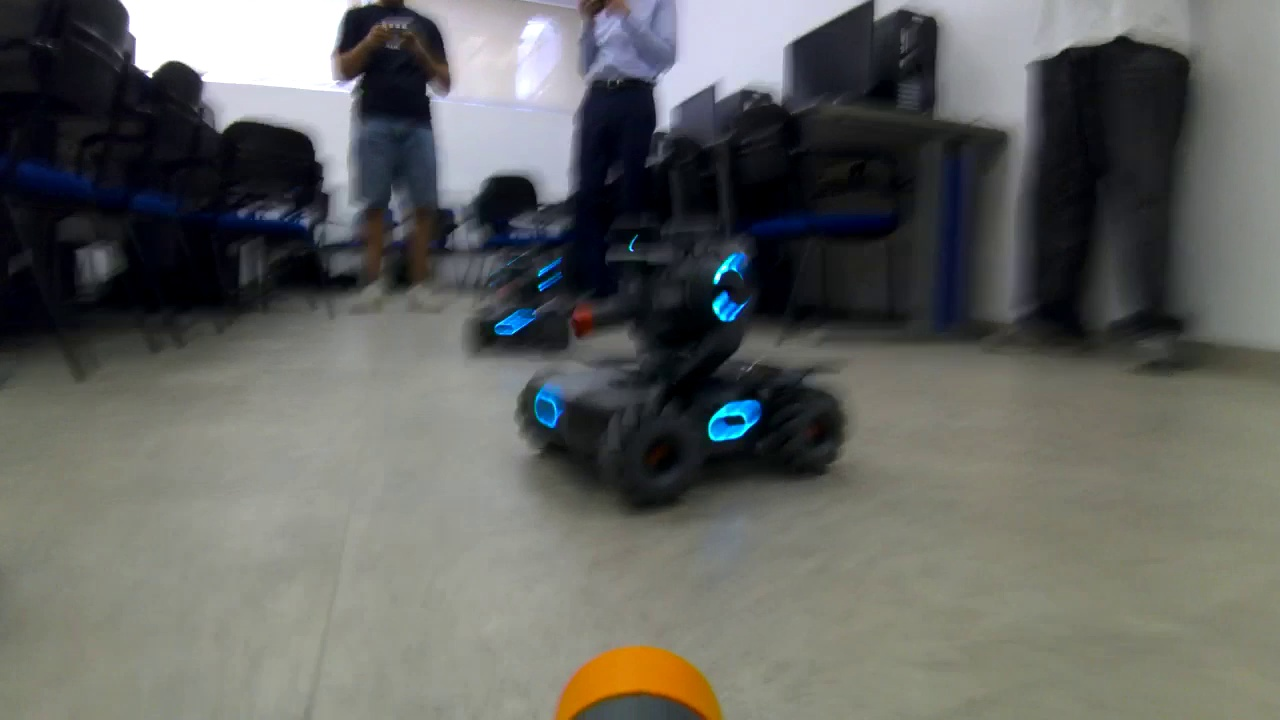robot: (517, 213, 855, 512)
